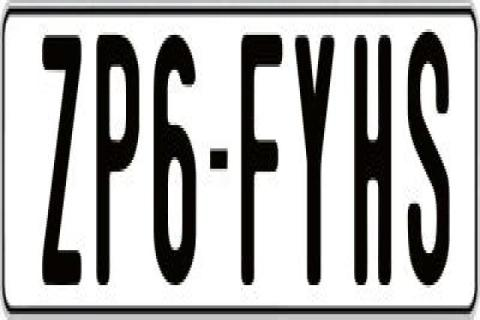0: (152, 26, 199, 276)
F: (238, 32, 278, 291)
H: (351, 26, 395, 276)
P: (92, 29, 142, 288)
S: (405, 32, 449, 288)
Y: (294, 35, 340, 285)
Z: (39, 29, 83, 288)
